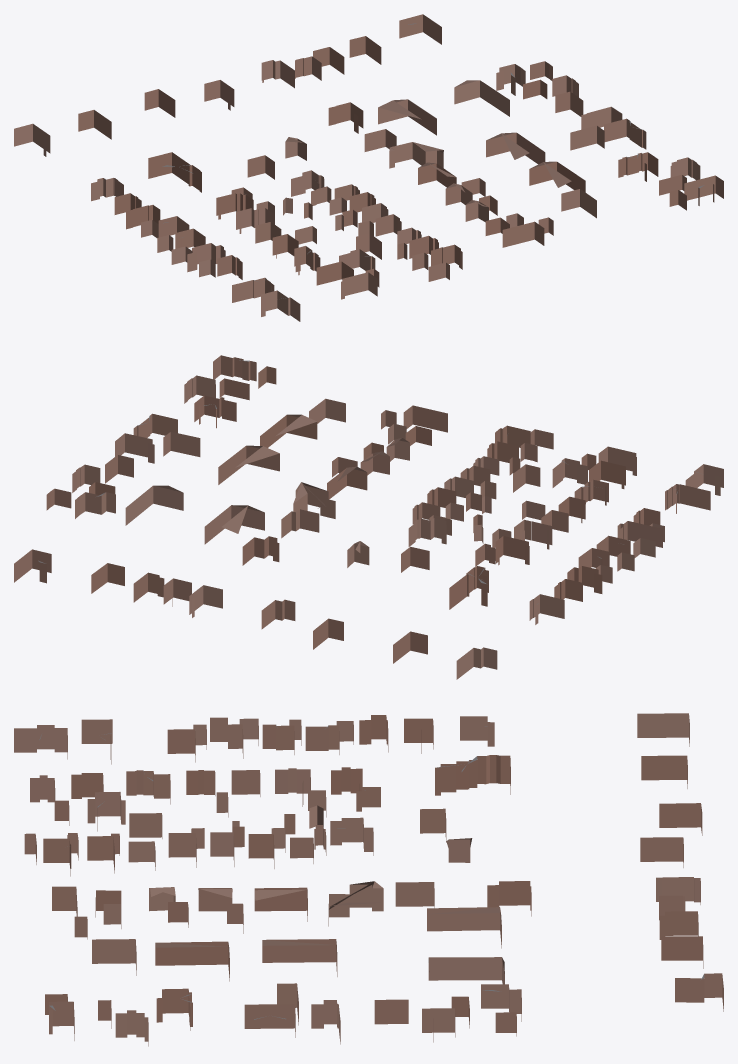
The model's file is c_1637_17837_buildings_residential.glb.
The picture shows the model from 3 angles, top to bottom: view 1: azimuth 30°, elevation 25°; view 2: azimuth 150°, elevation 25°; view 3: azimuth 270°, elevation 25°; orthographic projection. The views are drawn at different scales.
Parts seen in each view (by area): view 1: geometry_0; view 2: geometry_0; view 3: geometry_0.
Boxes of the visible parts, box(x1,y1,x2,y2) form: geometry_0: box(14, 14, 723, 321); geometry_0: box(14, 355, 723, 679); geometry_0: box(14, 713, 723, 1046).
Bounding box in the file's own units: 264 × 13.01 × 251.
